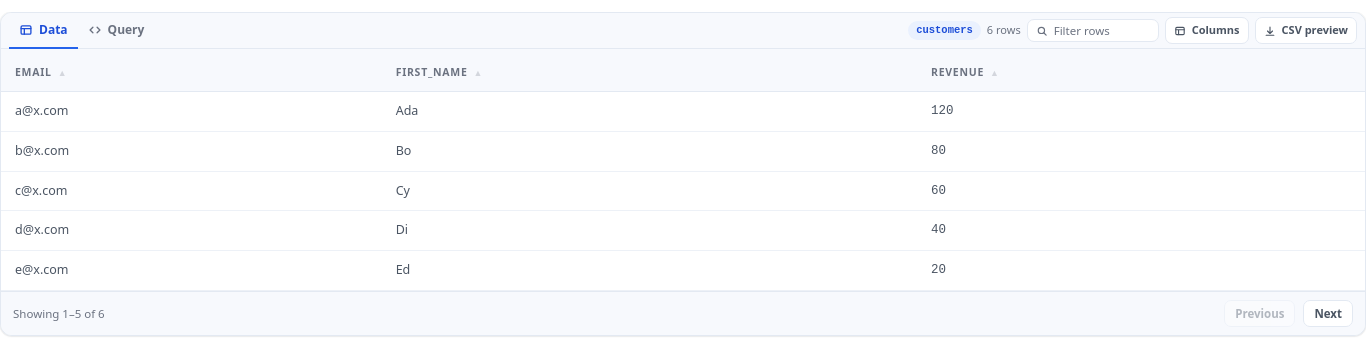
Scenario: ResultCard query and payload › shows the generated query on its own tab
This screenshot has width=1366, height=354.
What coordinates should you click on to do the following:
click the tab "Query"
I would click on:
 (116, 31)
Its box is [78,13,154,49].
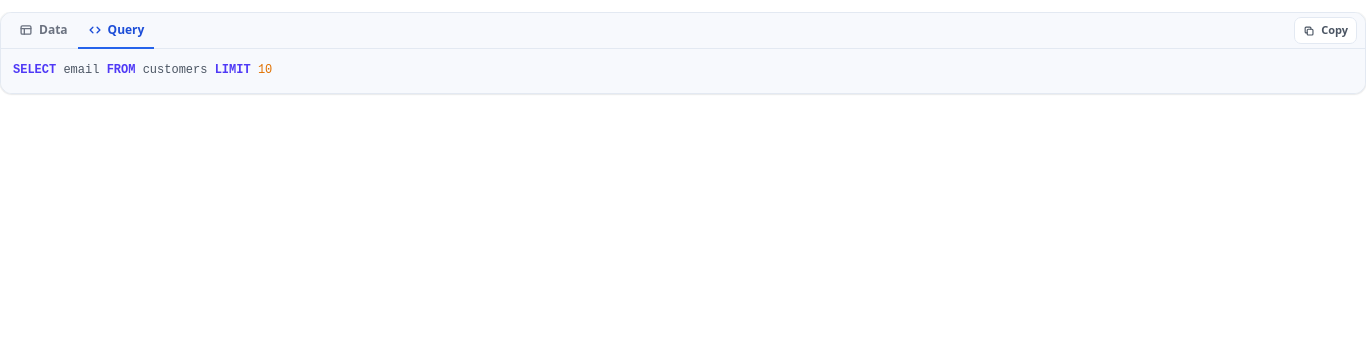
Expected: the text "SELECT" is shown, [13,63,56,77]
